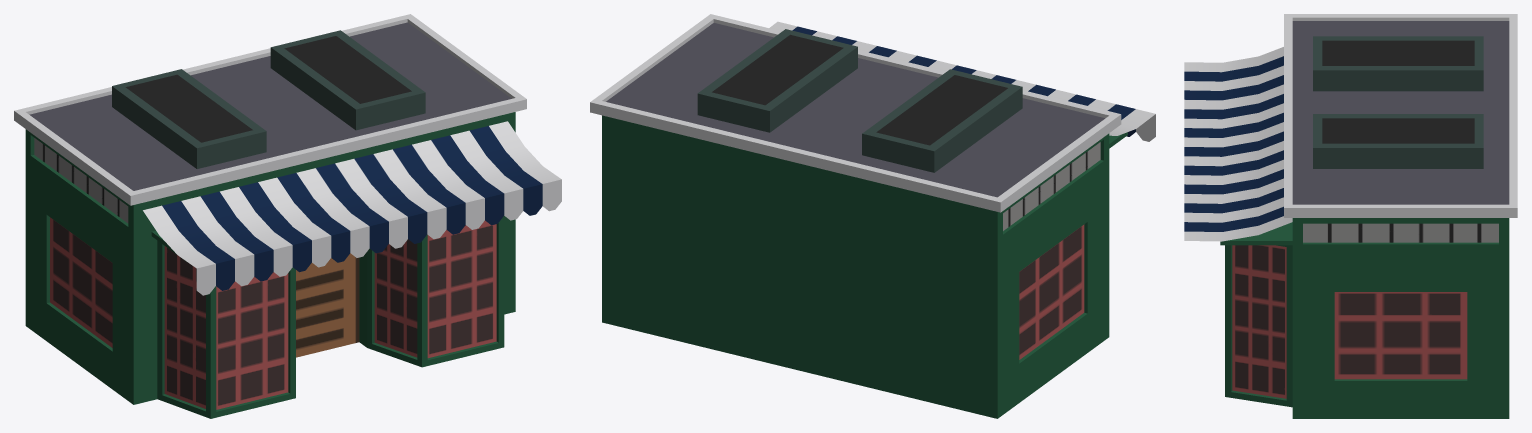
The model's file is building9b.FBX.
3 renders of one model, left to right at view 1: azimuth 30°, elevation 25°; view 2: azimuth 150°, elevation 25°; view 3: azimuth 270°, elevation 25°, orthographic. The views are drawn at different scales.
Visible parts, largest first — view 1: building9b; view 2: building9b; view 3: building9b.
Boxes of the visible parts, x1,y1,x2,y2 form: building9b: (14, 14, 561, 418); building9b: (590, 14, 1155, 418); building9b: (1184, 14, 1517, 418).
Bounding box in the file's own units: 20.63 × 11.49 × 14.98.
